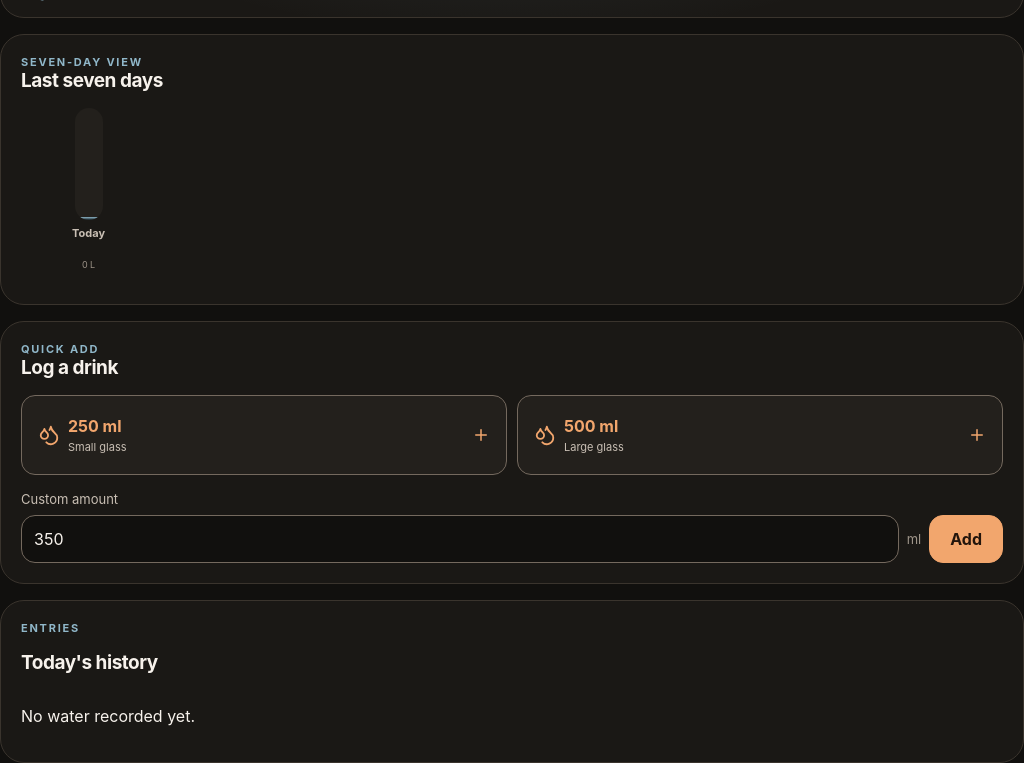
Scenario: HydrationPage › records water and refreshes today's persisted progress
(page scrolled)
Click the button with aria-label "Add 250 ml" at (83, 426), box [21,395,507,475]
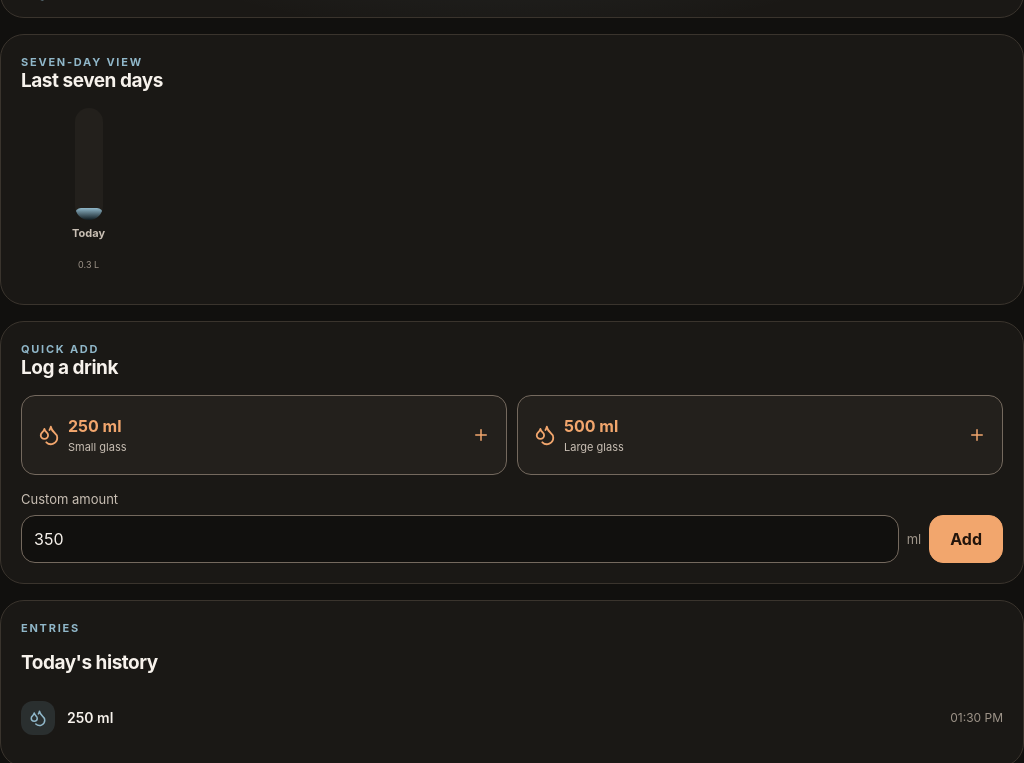
Now the text "250 ml" in the row of "01:30 PM" is shown, box [67,709,113,726]
